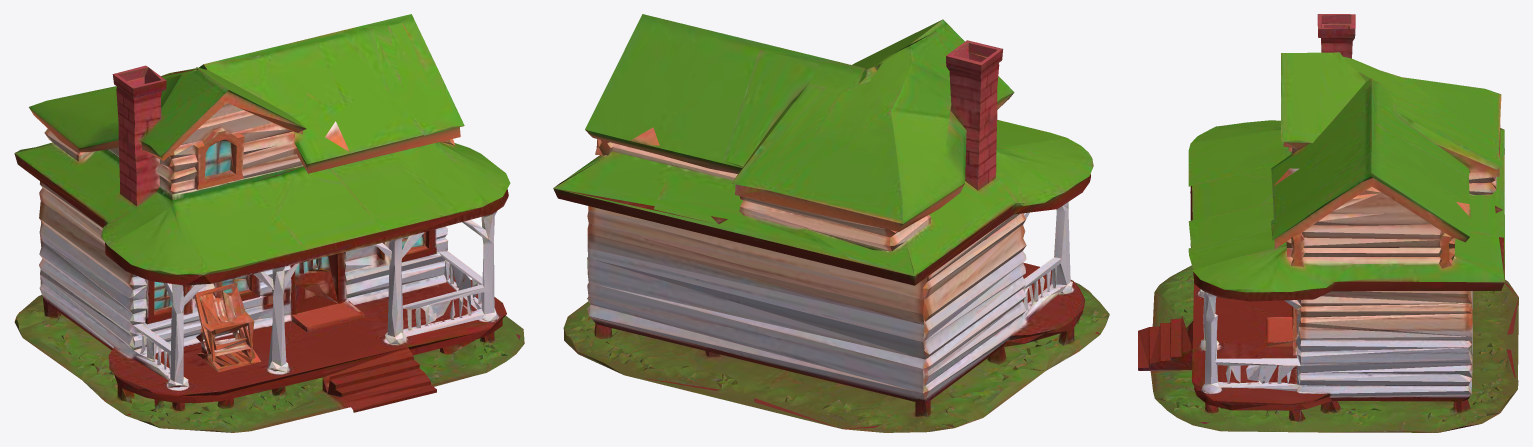
Rendered from farmhouse.glb.
The picture shows the model from 3 angles, left to right: view 1: azimuth 30°, elevation 25°; view 2: azimuth 150°, elevation 25°; view 3: azimuth 270°, elevation 25°; orthographic projection. The views are drawn at different scales.
Visible parts, largest first — view 1: output_unwrapped; view 2: output_unwrapped; view 3: output_unwrapped.
Boxes of the visible parts, box(x1,y1,x2,y2) form: output_unwrapped: box(14, 14, 524, 432); output_unwrapped: box(553, 14, 1109, 432); output_unwrapped: box(1138, 14, 1518, 432).
Bounding box in the file's own units: 1.89 × 1.32 × 1.72.
1 material, 1 textured.
